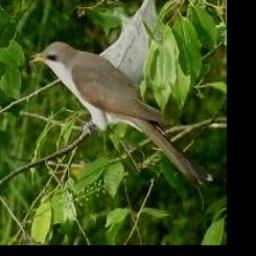Cuckoo: (27, 41, 207, 190)
